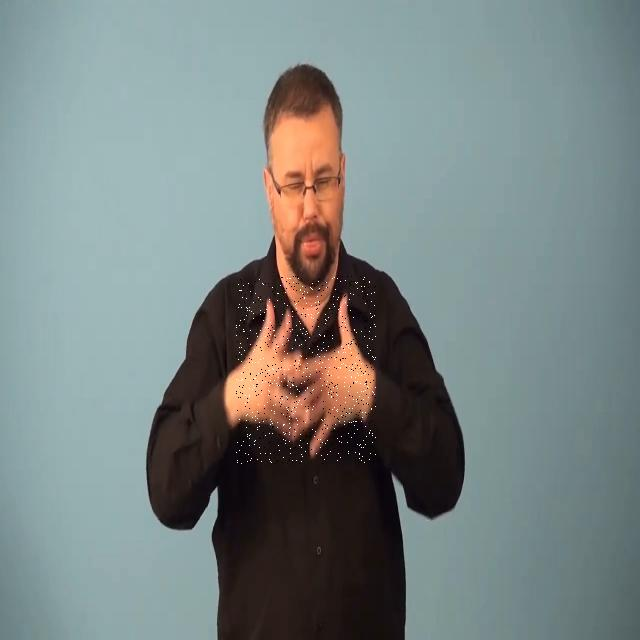juicy: (236, 276, 376, 464)
